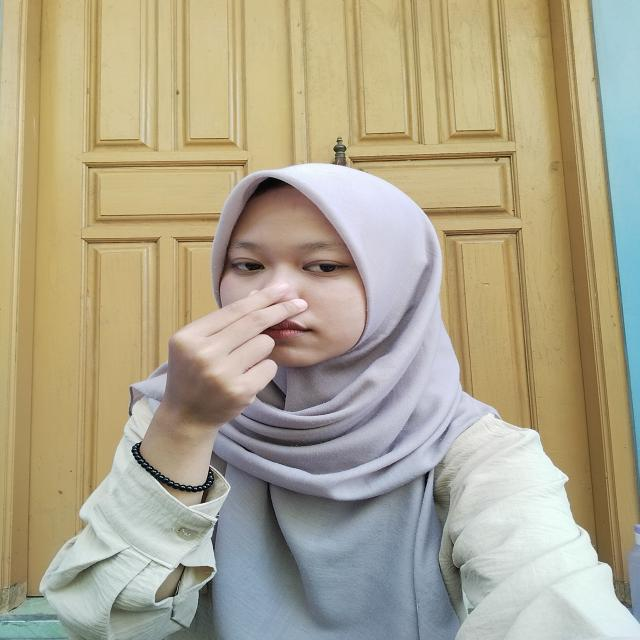bau: (131, 266, 323, 426)
